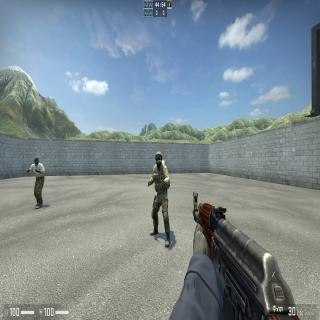CT-Body: (151, 152, 170, 242)
CT-Head: (155, 152, 162, 166)
T-Body: (32, 156, 44, 208)
T-Head: (34, 156, 38, 166)
